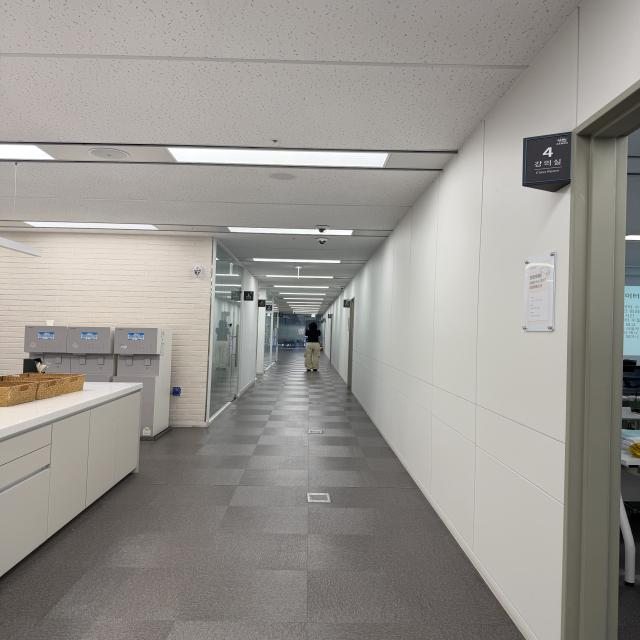sign: (525, 134, 571, 183)
